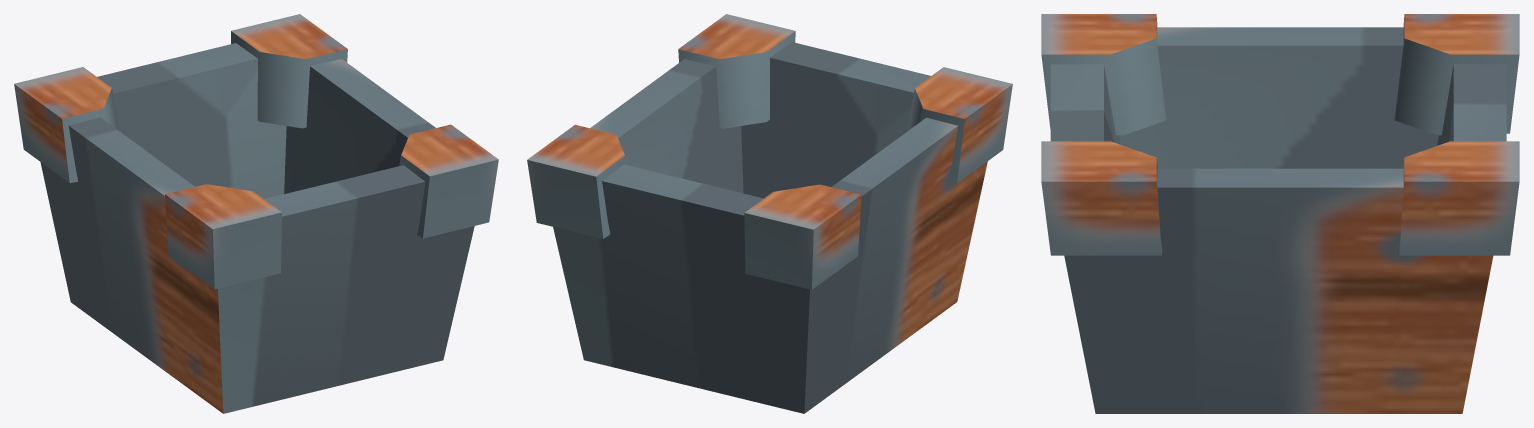
The model's file is vagonetka_body.fbx.
3 views of the same model, side by side, from view 1: azimuth 30°, elevation 25°; view 2: azimuth 150°, elevation 25°; view 3: azimuth 270°, elevation 25° (orthographic). The views are drawn at different scales.
Parts seen in each view (by area): view 1: vagonetka_body; view 2: vagonetka_body; view 3: vagonetka_body.
Boxes of the visible parts, box(x1,y1,x2,y2) form: vagonetka_body: box(14, 14, 498, 413); vagonetka_body: box(527, 14, 1012, 413); vagonetka_body: box(1041, 14, 1519, 413).
Bounding box in the file's own units: 9.41 × 6.58 × 11.33.
